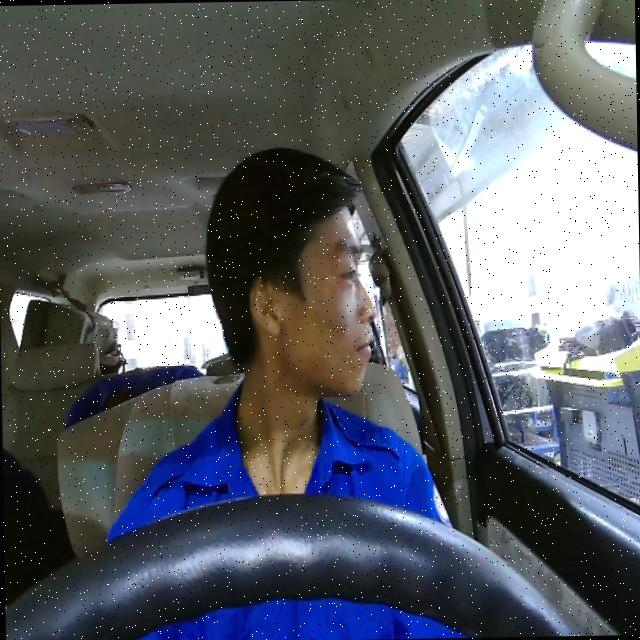seeing_right: (242, 200, 378, 398)
